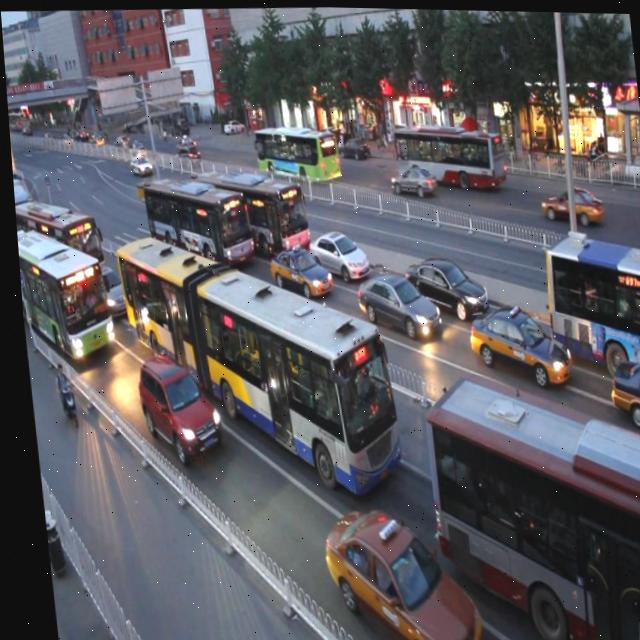car: (312, 499, 470, 640), (128, 353, 220, 466), (460, 293, 568, 388), (348, 259, 434, 338), (400, 244, 485, 315), (260, 234, 328, 297), (300, 217, 364, 280), (598, 345, 640, 429), (76, 264, 128, 321)
van: (107, 218, 399, 497), (414, 367, 640, 640), (535, 225, 640, 369), (13, 221, 112, 364), (135, 163, 251, 273), (190, 155, 308, 257), (11, 188, 100, 283)
